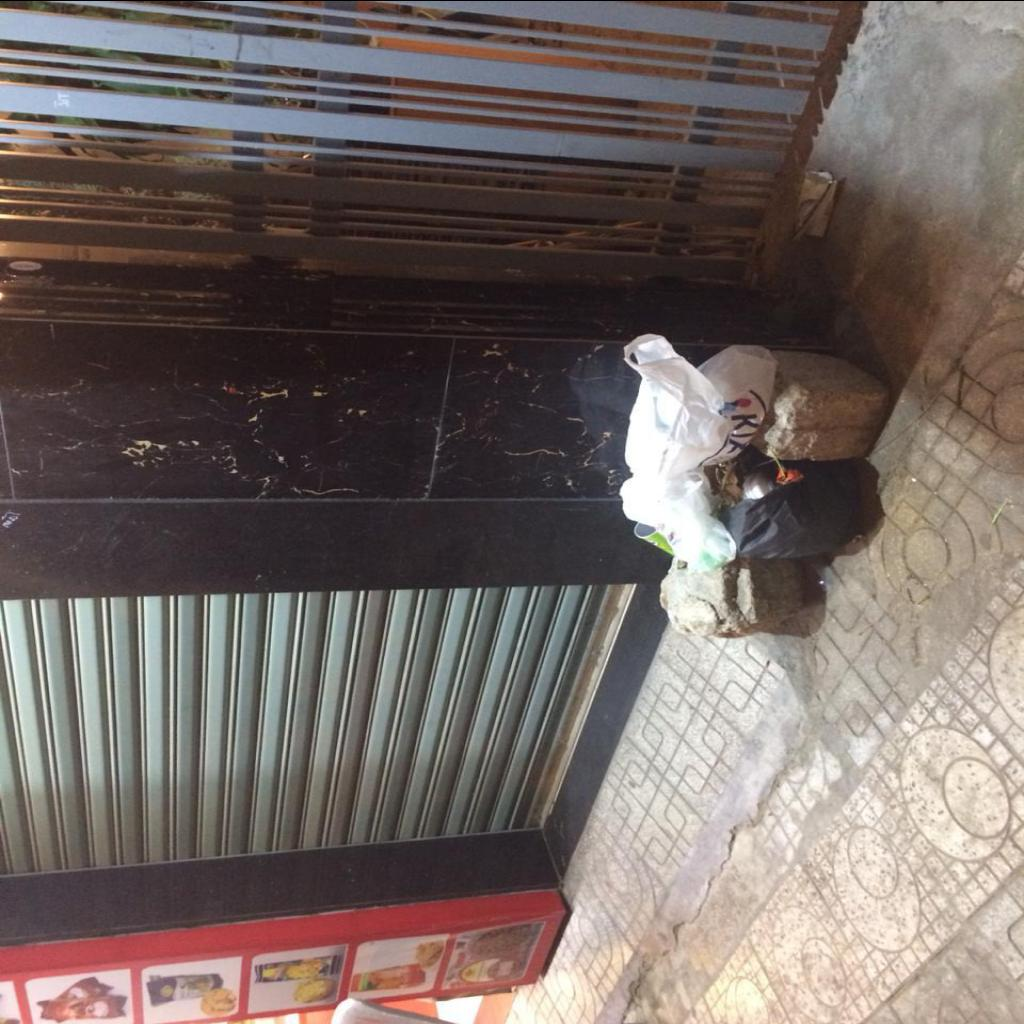Garbage bag: (721, 458, 866, 562)
Single-use carrier bag: (624, 332, 778, 474), (623, 467, 734, 568)
Unlabeled litter: (797, 169, 837, 241), (632, 522, 670, 552), (744, 468, 776, 498)
